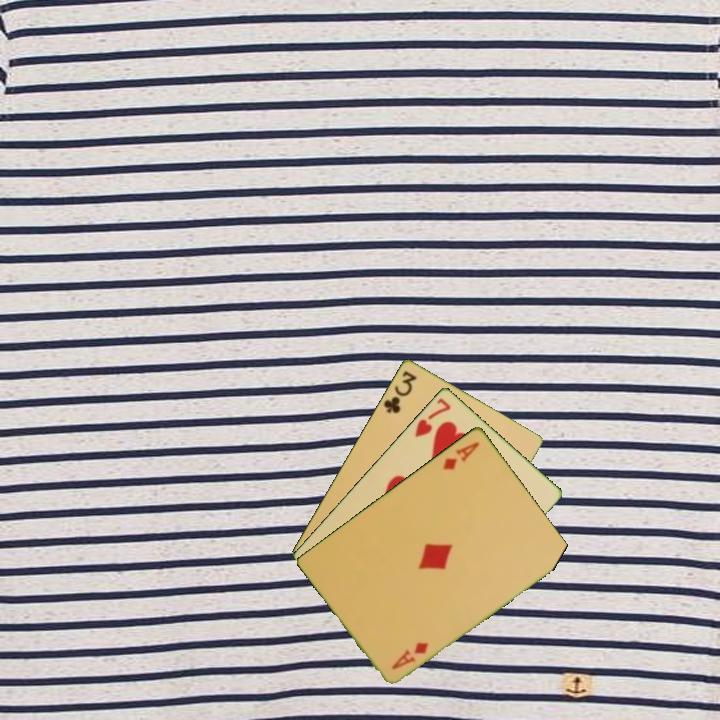3c: (380, 367, 420, 416)
7h: (411, 394, 454, 440)
Ad: (439, 437, 483, 472), (388, 638, 431, 672)
